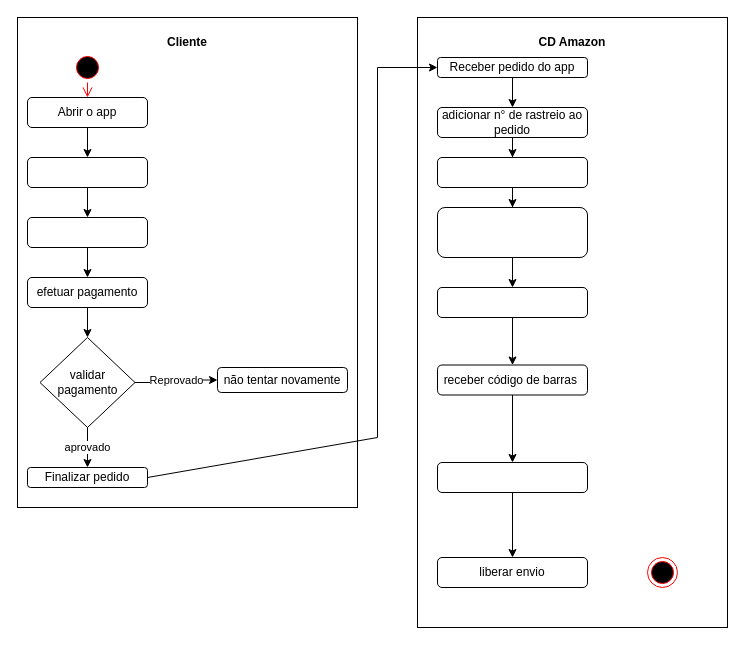
This 745x645 diagram has some shape labels left out. The centre of each missing label's shape, as x and y in pixels:
"adicionar ao carrinho" goes at point (87, 232).
"emitir etiqueda de codigo de barras" goes at point (512, 302).
"emitir etiqueta de endereço do pedido" goes at point (512, 477).
"Escolher produto" goes at point (87, 172).
"informar ao usuário a caixa a ser usada com base no peso do produto" goes at point (512, 232).
"receber peso do produto" goes at point (512, 172).
